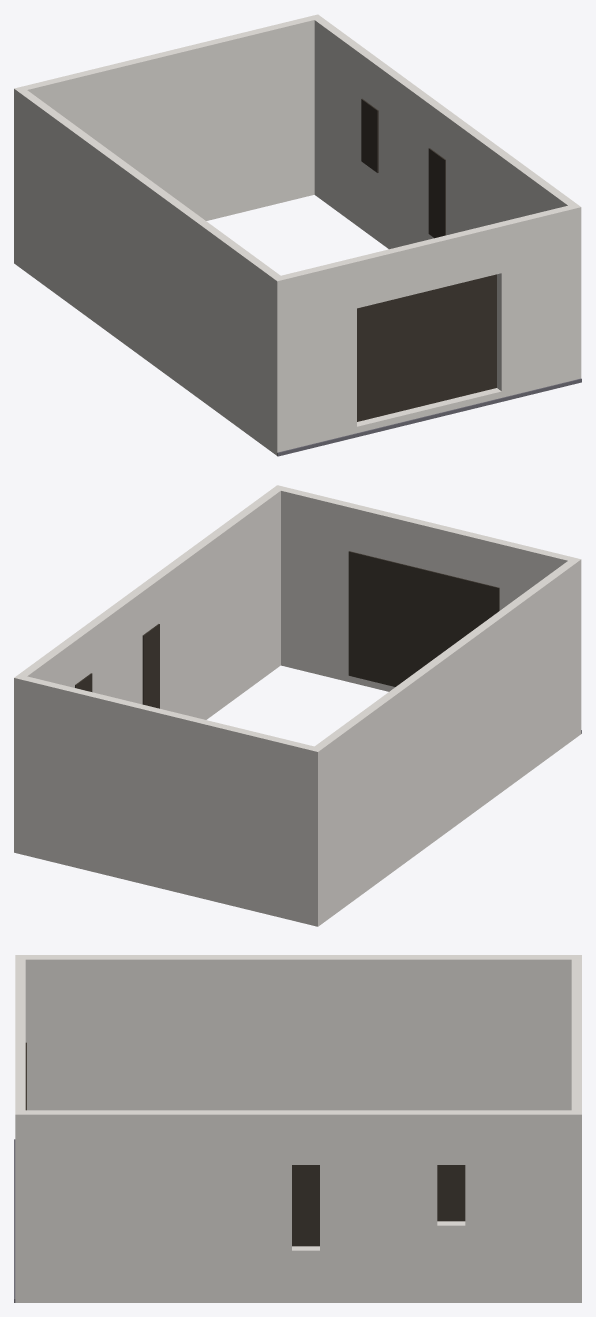
File: SM_Floor_NarrowUpperBalconyEndR_White_546_01.gltf
3 renders of one model, top to bottom at view 1: azimuth 30°, elevation 25°; view 2: azimuth 150°, elevation 25°; view 3: azimuth 270°, elevation 25°, orthographic. The views are drawn at different scales.
Parts seen in each view (by area): view 1: SM_Floor_NarrowUpperBalconyEndR_White_546_01; view 2: SM_Floor_NarrowUpperBalconyEndR_White_546_01; view 3: SM_Floor_NarrowUpperBalconyEndR_White_546_01.
Boxes of the visible parts, x1,y1,x2,y2 form: SM_Floor_NarrowUpperBalconyEndR_White_546_01: (14, 14, 581, 456); SM_Floor_NarrowUpperBalconyEndR_White_546_01: (14, 485, 581, 926); SM_Floor_NarrowUpperBalconyEndR_White_546_01: (14, 955, 581, 1302).
Bounding box in the file's own units: 5.46 × 3 × 8.21.
Materials: 1 (1 with a texture image).
